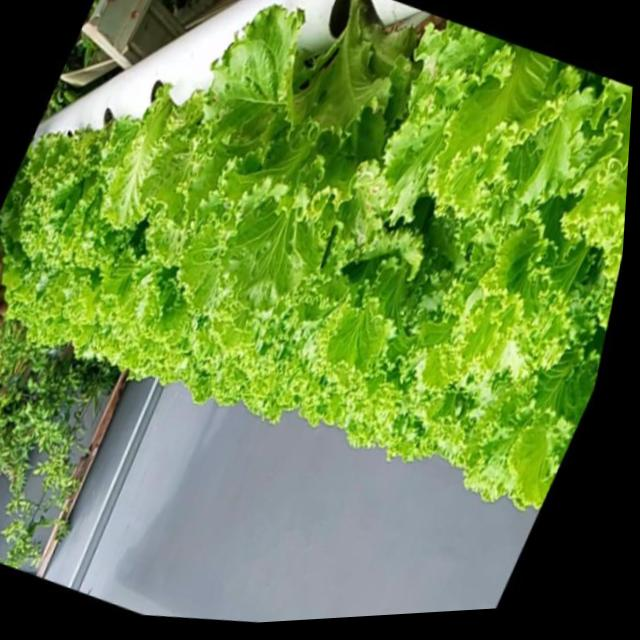Mature: (0, 0, 633, 513), (198, 8, 431, 304), (6, 106, 187, 306)
